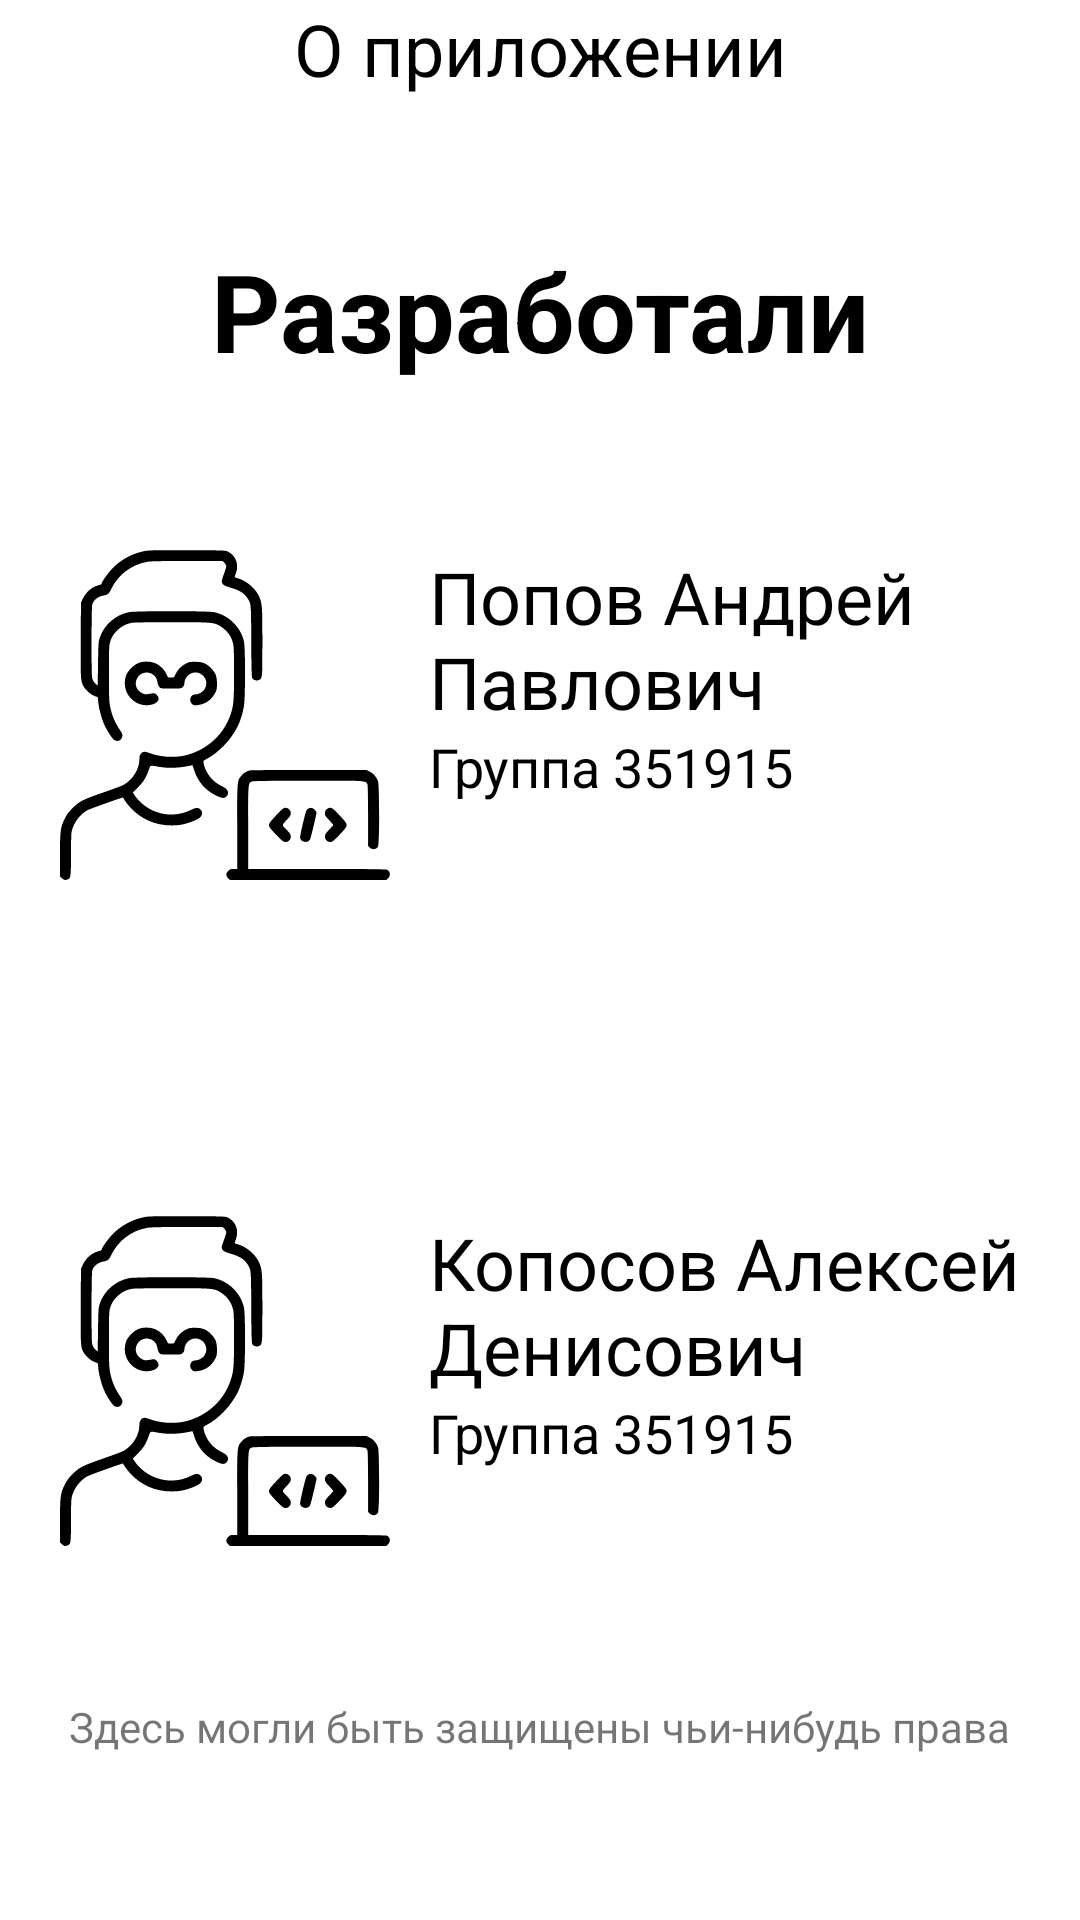

Icons on this 1080*1920 Android screen, each with its box as (x1, y1, x2, y2):
man: (60, 550, 390, 880), (60, 1216, 390, 1546)
